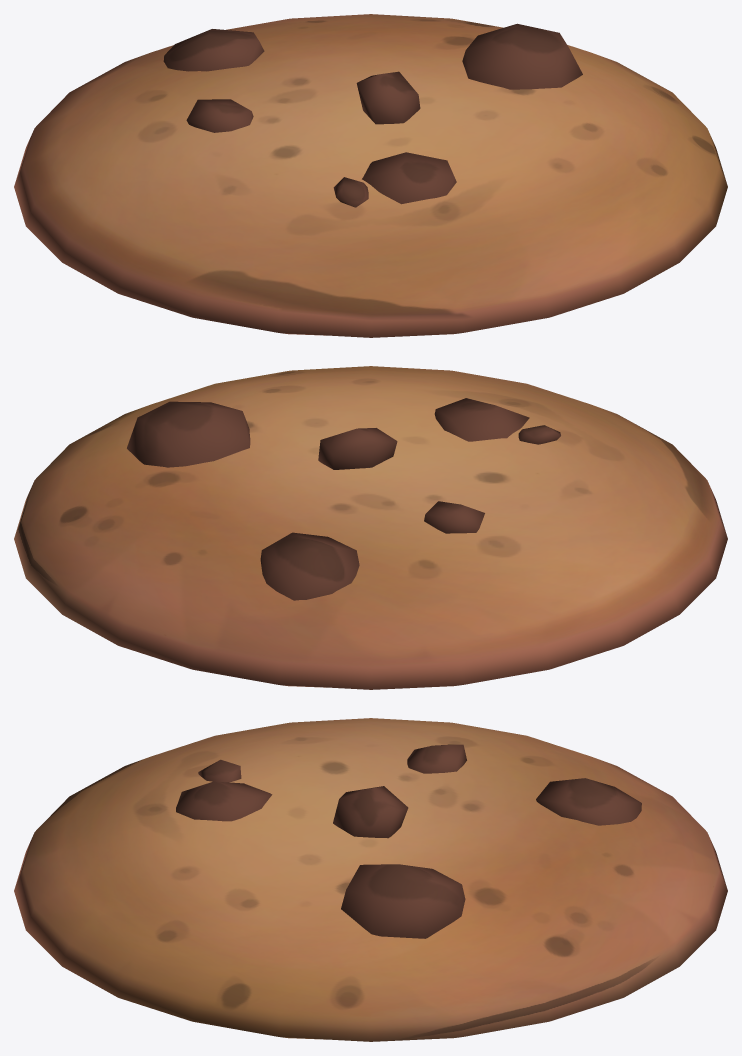
File: Biscuit_02.fbx
The picture shows the model from 3 angles, top to bottom: view 1: azimuth 30°, elevation 25°; view 2: azimuth 150°, elevation 25°; view 3: azimuth 270°, elevation 25°; orthographic projection.
Visible parts, largest first — view 1: Cookie.004; view 2: Cookie.004; view 3: Cookie.004.
Boxes of the visible parts, x1,y1,x2,y2 form: Cookie.004: (14, 14, 727, 337); Cookie.004: (14, 366, 727, 689); Cookie.004: (14, 718, 727, 1041).
Bounding box in the file's own units: 8761 × 1794 × 8761.
